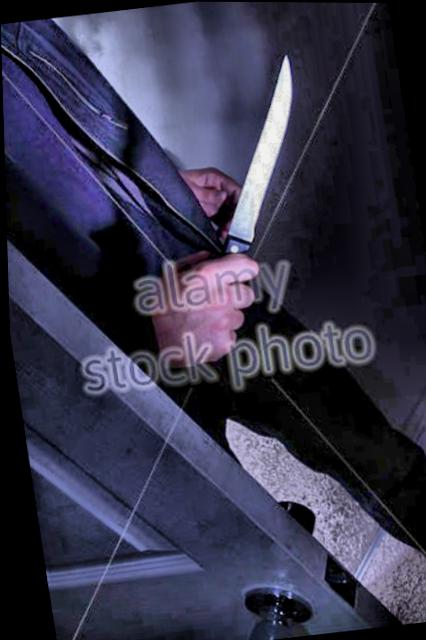knife: (162, 43, 337, 350)
